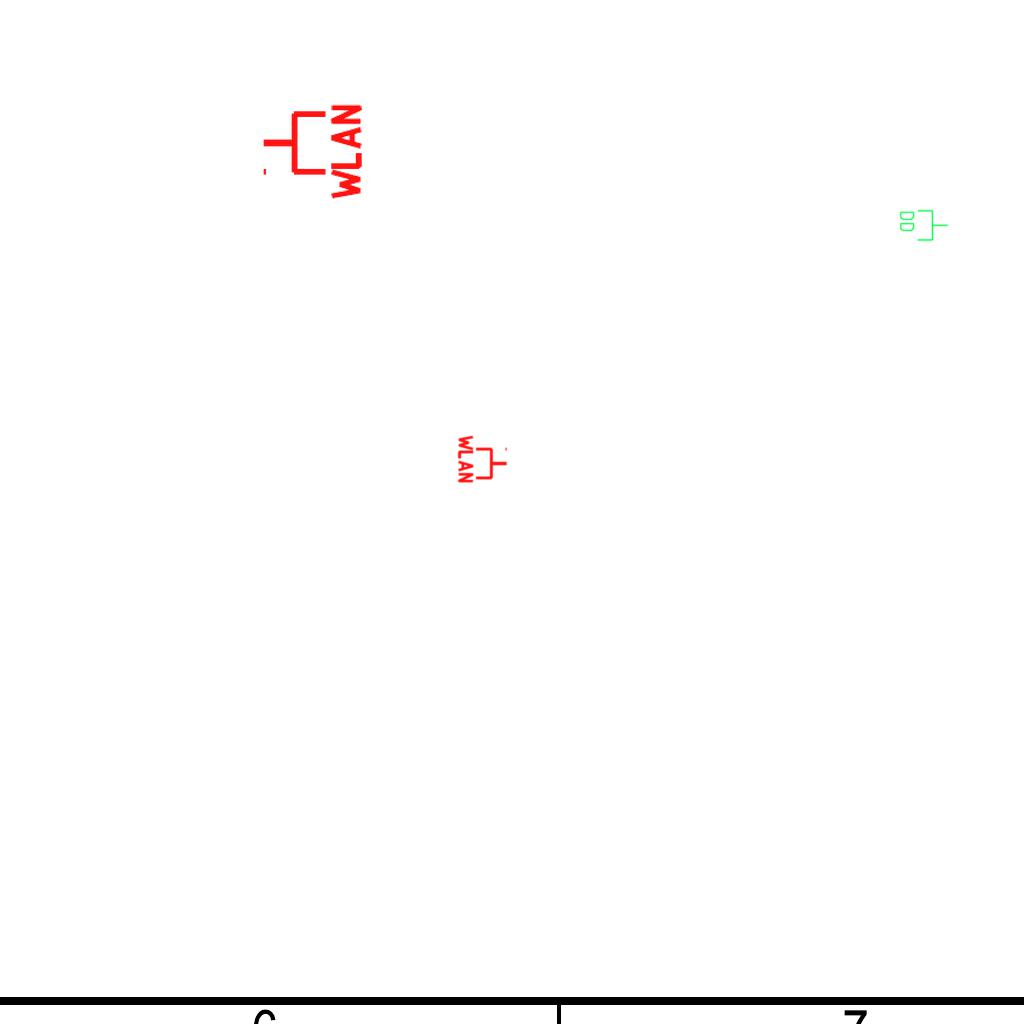Datenanschluss_zweifach: (898, 208, 949, 242)
WLAN: (259, 100, 364, 204), (457, 433, 509, 485)
